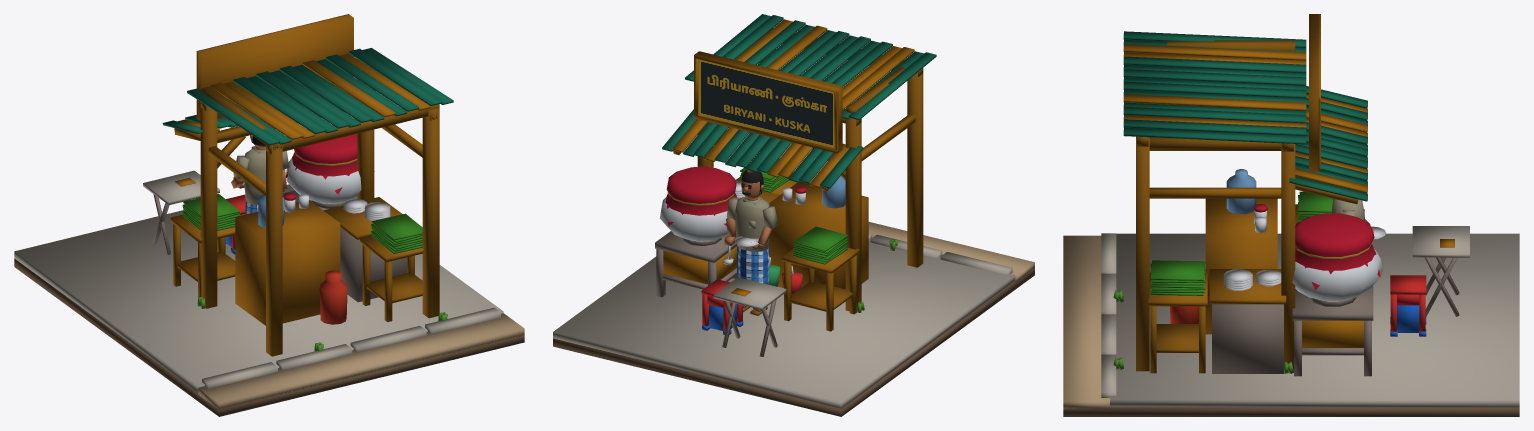
File: biryani_stall_d.glb
3 renders of one model, left to right at view 1: azimuth 30°, elevation 25°; view 2: azimuth 150°, elevation 25°; view 3: azimuth 270°, elevation 25°, orthographic. The views are drawn at different scales.
Parts seen in each view (by area): view 1: stall; view 2: stall, sign, lungi; view 3: stall.
Part boxes in pixels (x1,y1,x2,y2): stall: [14, 14, 524, 416]; stall: [553, 14, 1034, 416]; sign: [698, 59, 834, 148]; lungi: [736, 246, 769, 306]; stall: [1063, 14, 1519, 416].
Size of the model in its own units: 3.7 by 2.99 by 4.3.
Materials: 3 (2 with a texture image).
